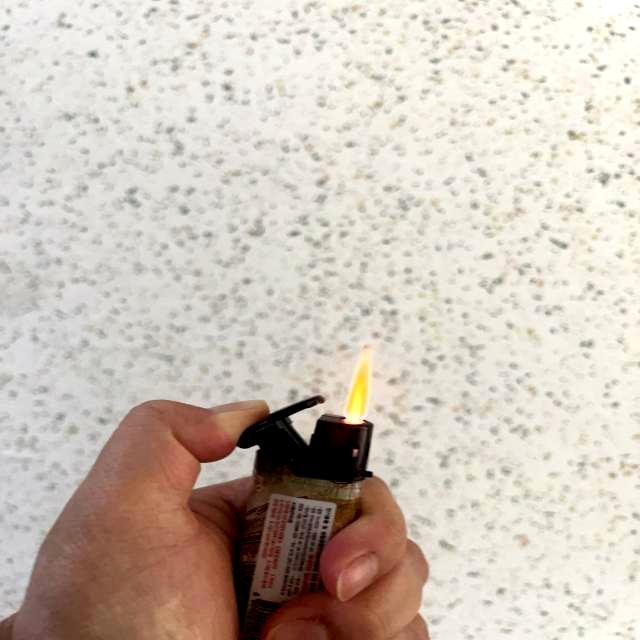fire: (343, 350, 373, 418)
